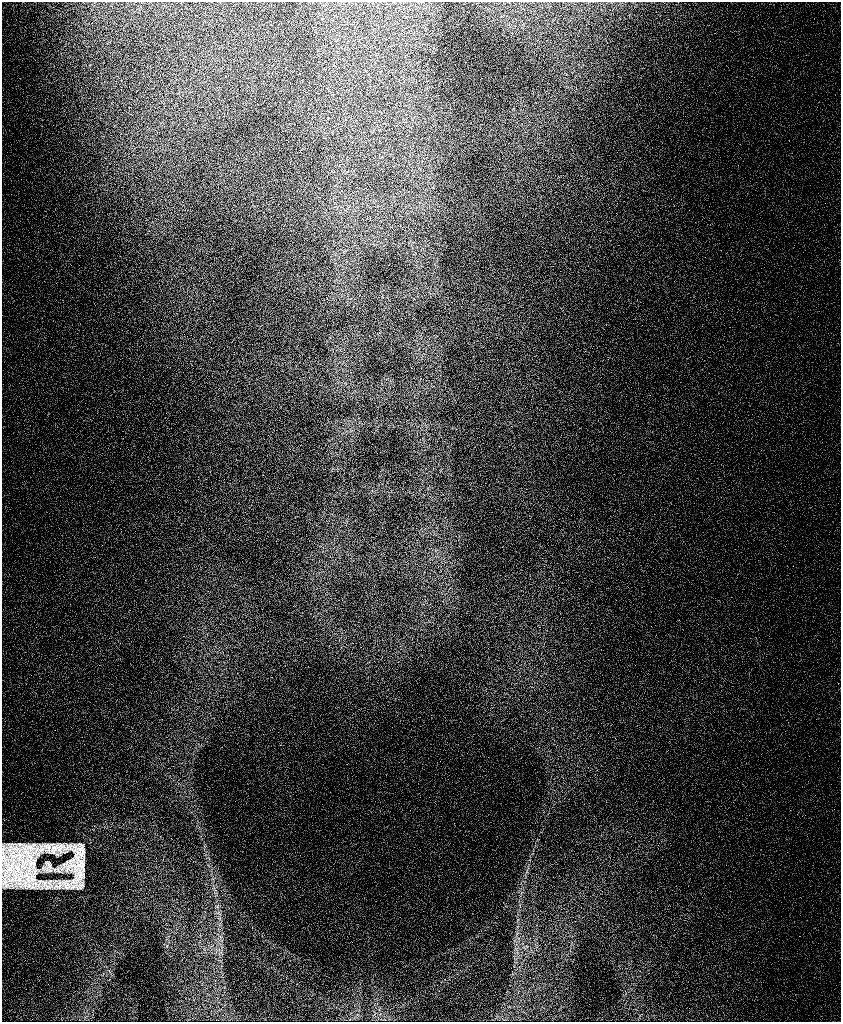lumbar scoliosis: (298, 118, 475, 600)
